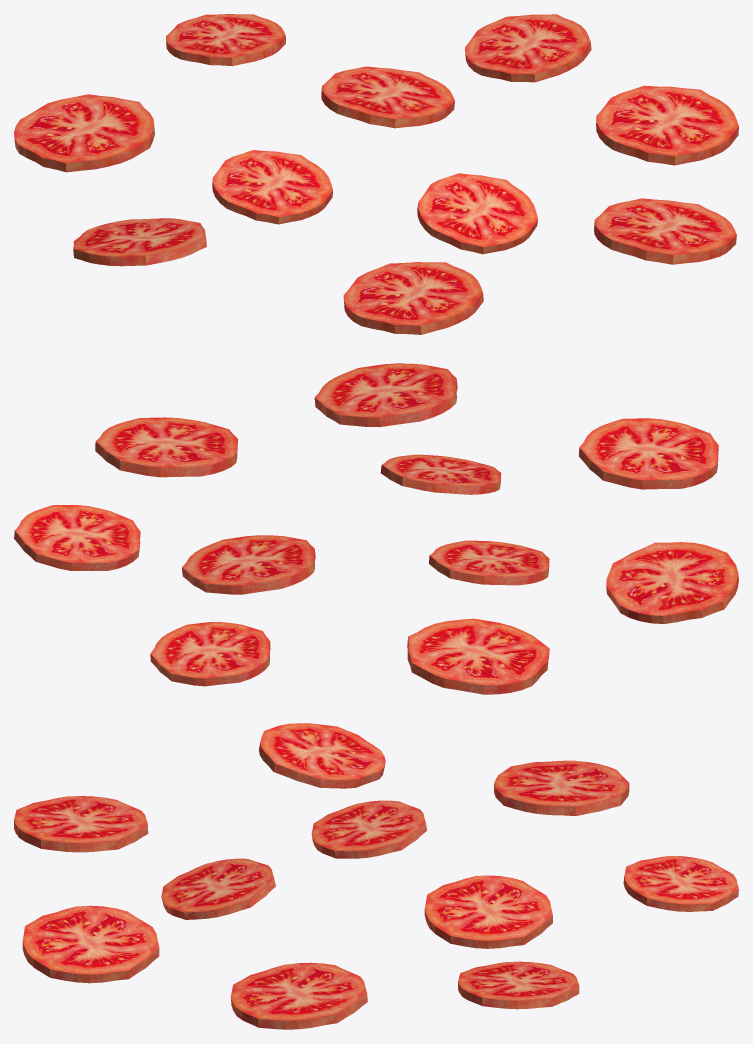
File: tomato_topping.fbx
The picture shows the model from 3 angles, top to bottom: view 1: azimuth 30°, elevation 25°; view 2: azimuth 150°, elevation 25°; view 3: azimuth 270°, elevation 25°; orthographic projection. The views are drawn at different scales.
Parts seen in each view (by area): view 1: tomato.004, tomato.008, tomato.002, tomato.009, tomato.003, tomato, tomato.005, tomato.007, tomato.001, tomato.006; view 2: tomato.001, tomato.008, tomato.002, tomato.003, tomato.004, tomato.005, tomato.007, tomato.006, tomato, tomato.009; view 3: tomato.003, tomato.007, tomato.004, tomato.001, tomato.002, tomato.008, tomato, tomato.006, tomato.009, tomato.005.
Part boxes in pixels (x1,y1,x2,y2): tomato.004: (596, 85, 738, 165); tomato.008: (14, 94, 154, 172); tomato.002: (343, 262, 483, 334); tomato.009: (417, 173, 537, 254); tomato.003: (594, 198, 736, 264); tomato: (212, 150, 332, 224); tomato.005: (465, 14, 591, 82); tomato.007: (321, 66, 454, 128); tomato.001: (73, 218, 206, 266); tomato.006: (166, 14, 285, 66); tomato.001: (606, 542, 738, 623); tomato.008: (407, 618, 549, 694); tomato.002: (579, 418, 718, 489); tomato.003: (314, 363, 457, 427); tomato.004: (95, 417, 237, 477); tomato.005: (14, 505, 140, 570); tomato.007: (182, 535, 315, 594); tomato.006: (150, 622, 270, 686); tomato: (428, 540, 549, 585); tomato.009: (380, 454, 501, 494); tomato.003: (22, 905, 159, 983); tomato.007: (424, 875, 552, 948); tomato.004: (230, 962, 367, 1029); tomato.001: (259, 723, 385, 788); tomato.002: (14, 796, 148, 852); tomato.008: (494, 760, 629, 815); tomato: (311, 800, 426, 858); tomato.006: (623, 856, 738, 911); tomato.009: (161, 858, 275, 919); tomato.005: (458, 961, 579, 1009).
Size of the model in its own units: 52.01 by 2.5 by 53.65.
10 materials, 10 textured.
